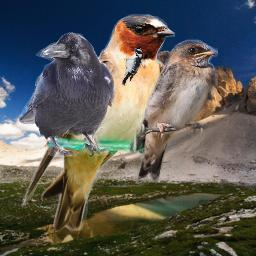Crow: (17, 31, 115, 157)
Swallow: (22, 14, 175, 232), (128, 39, 218, 181)
Woodpecker: (121, 47, 143, 86)
